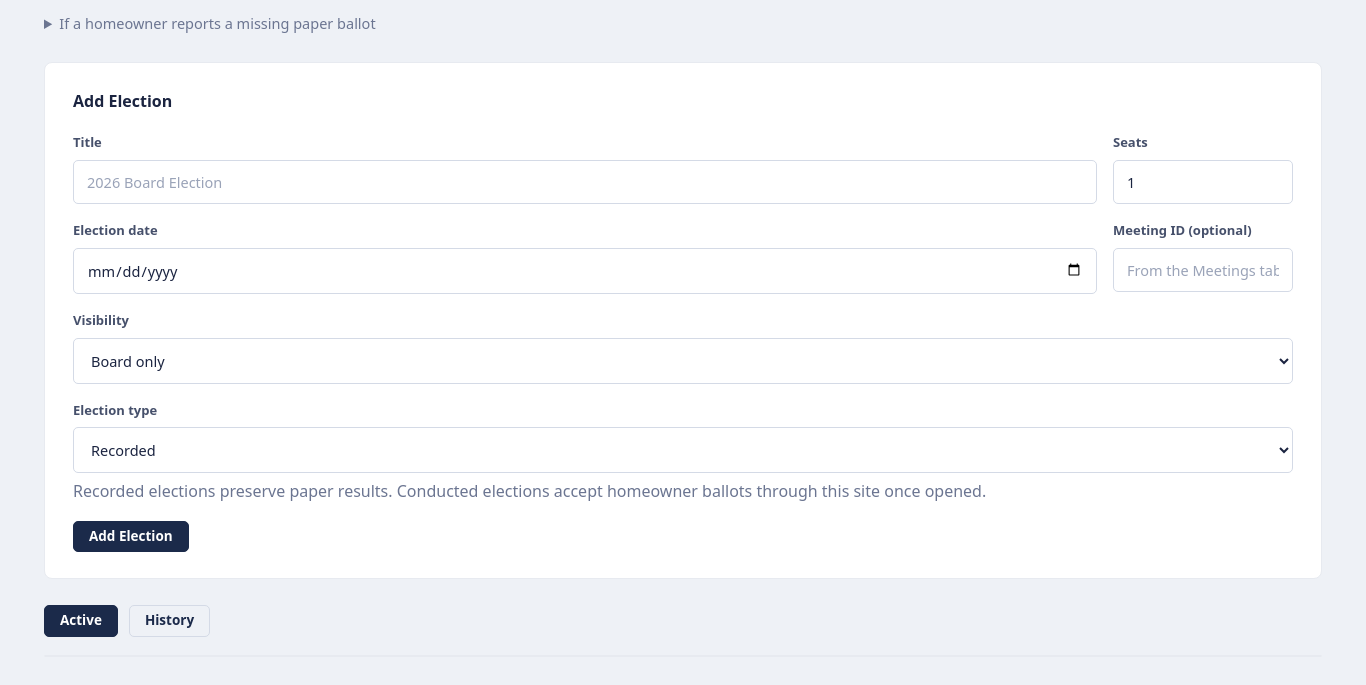
ElectionsManager › shows closed conducted totals and the frozen eligible denominator read-only
(page scrolled)
Step 1. Click the button "History" → (170, 621), box [129, 605, 210, 637]
(page scrolled)
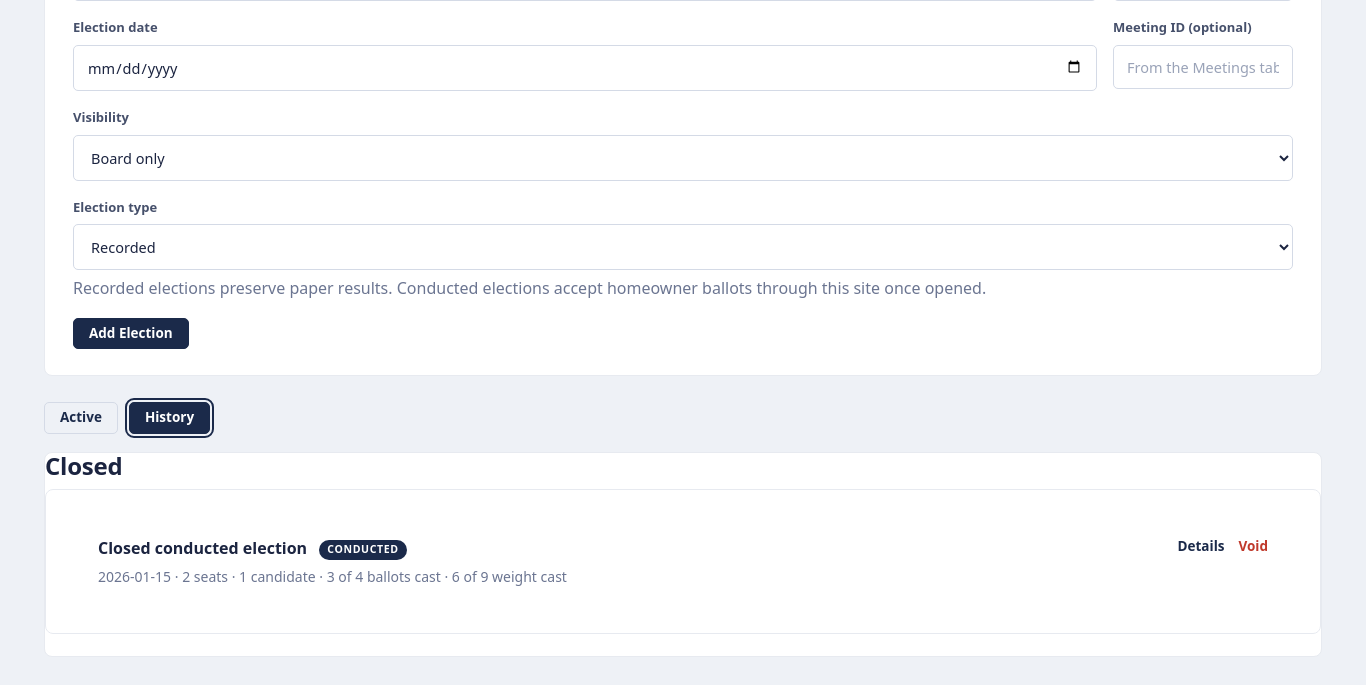
Step 2. Click the button "Details" → (1201, 547), box [1178, 536, 1224, 558]
(page scrolled)
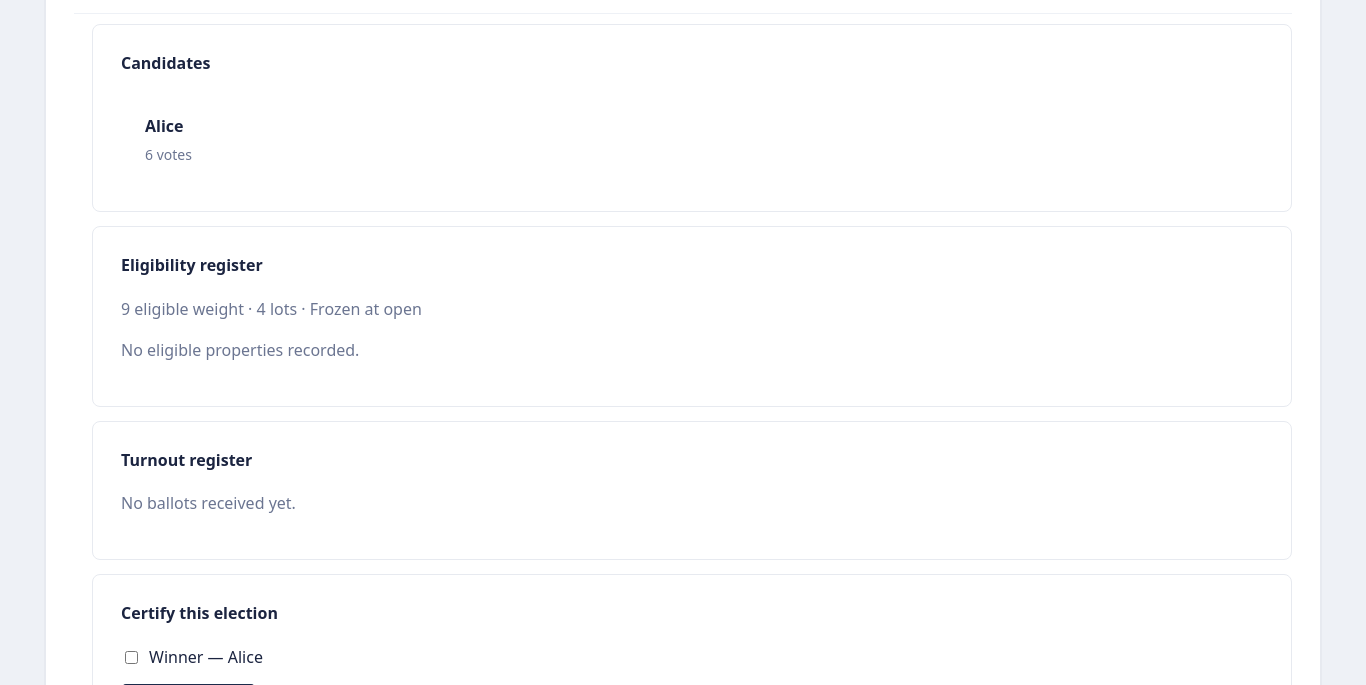
Expected: the text "Alice" is shown, [145, 116, 184, 138]
Expected: the text "6 votes" is shown, [145, 145, 192, 164]
Expected: the text "9 eligible weight · 4 lots · Frozen at open" is shown, [121, 298, 422, 320]
